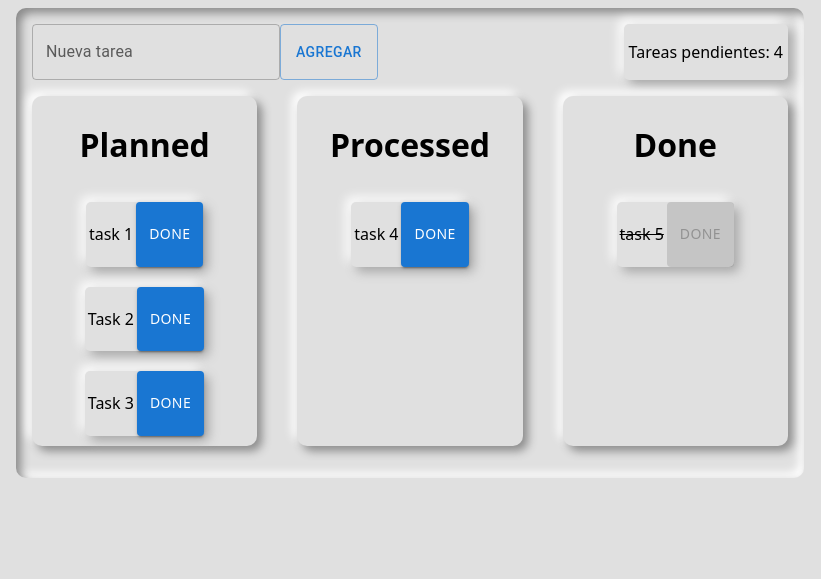
Test: <App /> › adds a new task to the Planned list
Type "New Task" into the field labelled "Nueva tarea" at (156,52), box [32, 24, 280, 80]
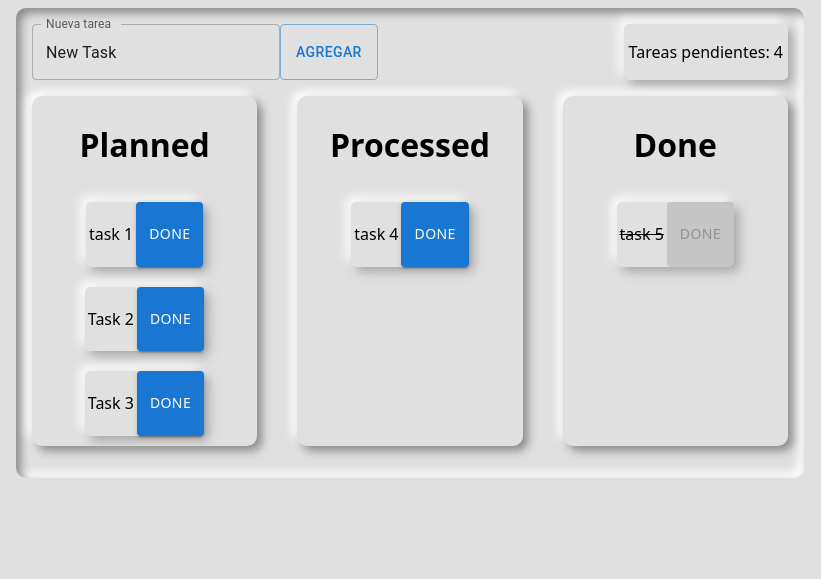
Click the button "Agregar" at (329,52), box [280, 24, 378, 80]
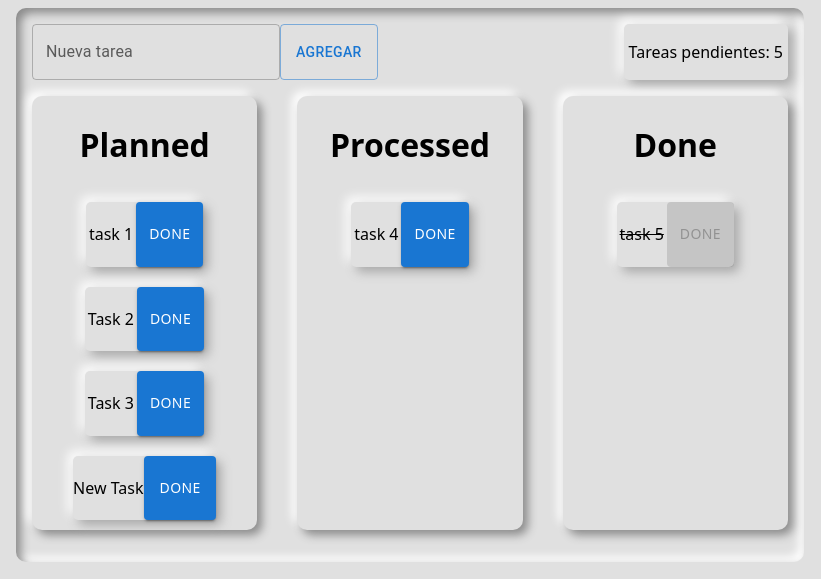
Check: the button "New Task" is shown, box [73, 477, 144, 499]
